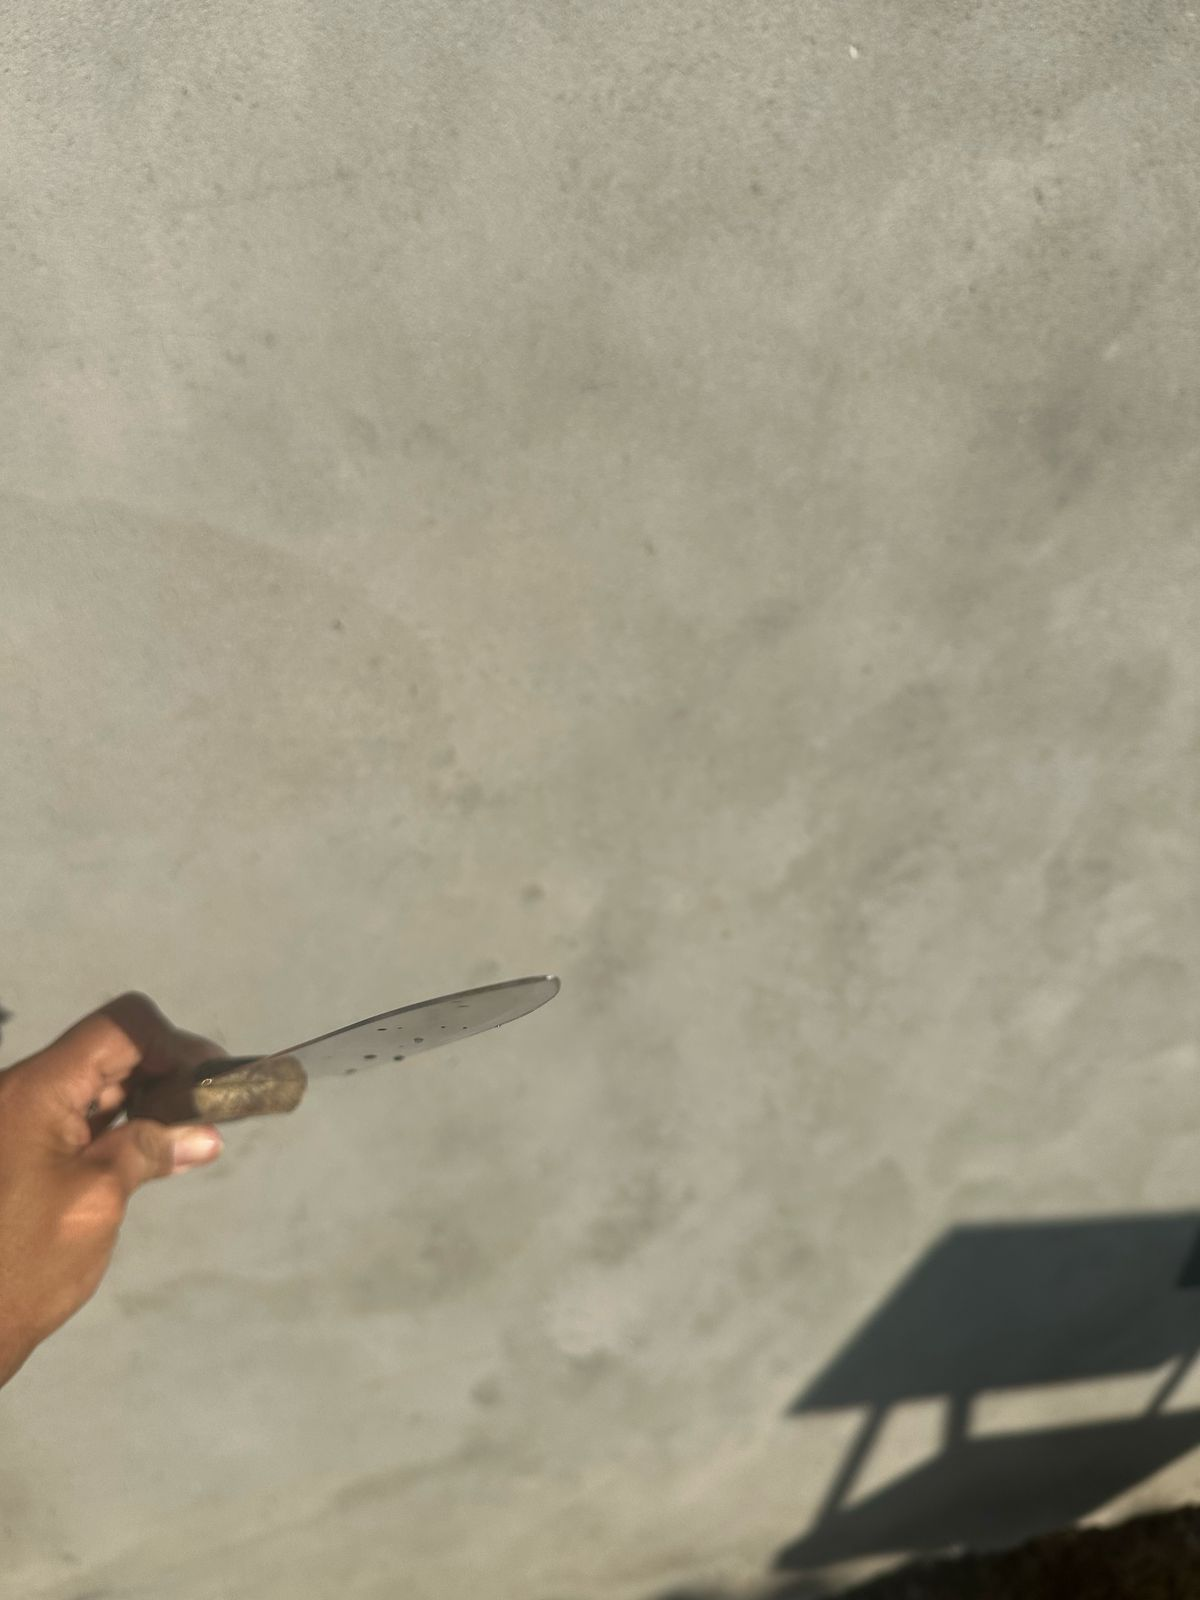faca: (189, 945, 590, 1117)
